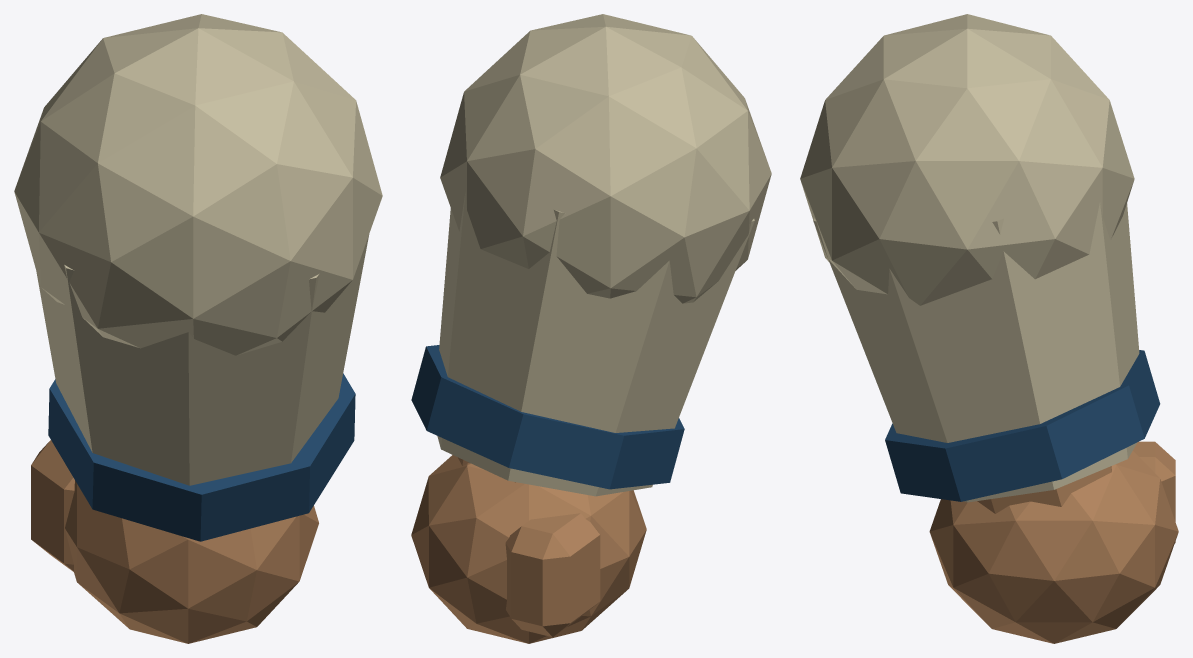
The model's file is ForearmRight.glb.
3 views of the same model, side by side, from view 1: azimuth 30°, elevation 25°; view 2: azimuth 150°, elevation 25°; view 3: azimuth 270°, elevation 25° (orthographic). The views are drawn at different scales.
Visible parts, largest first — view 1: Sculpture; view 2: Sculpture; view 3: Sculpture.
Boxes of the visible parts, x1,y1,x2,y2 form: Sculpture: [14, 14, 382, 643]; Sculpture: [411, 14, 771, 643]; Sculpture: [800, 14, 1178, 643].
Size of the model in its own units: 0.2148 by 0.411 by 0.24.
